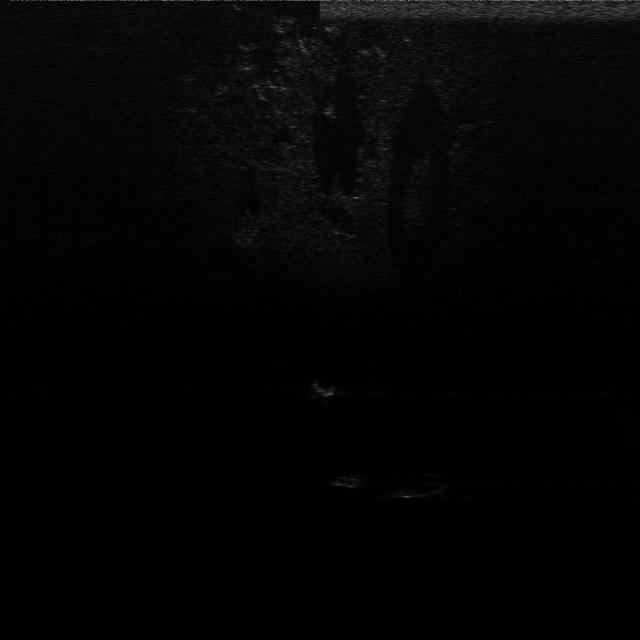cube: (330, 466, 370, 490)
square cage: (310, 372, 346, 398)
tyre: (396, 472, 450, 501)
